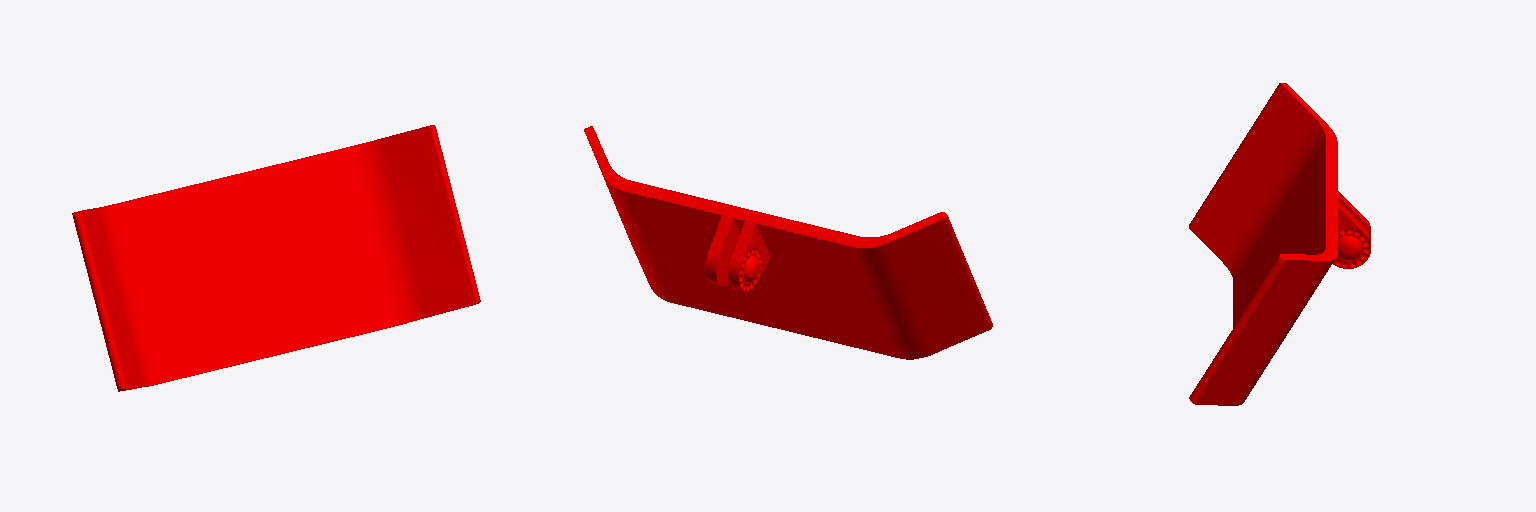
File: EnemyShovel.obj
3 renders of one model, left to right at view 1: azimuth 30°, elevation 25°; view 2: azimuth 150°, elevation 25°; view 3: azimuth 270°, elevation 25°, orthographic.
Visible parts, largest first — view 1: shovel; view 2: shovel; view 3: shovel.
Boxes of the visible parts, box(x1,y1,x2,y2) form: shovel: box(72, 125, 480, 391); shovel: box(584, 126, 992, 359); shovel: box(1189, 83, 1370, 405).
Bounding box in the file's own units: 90.59 × 41.8 × 39.6.